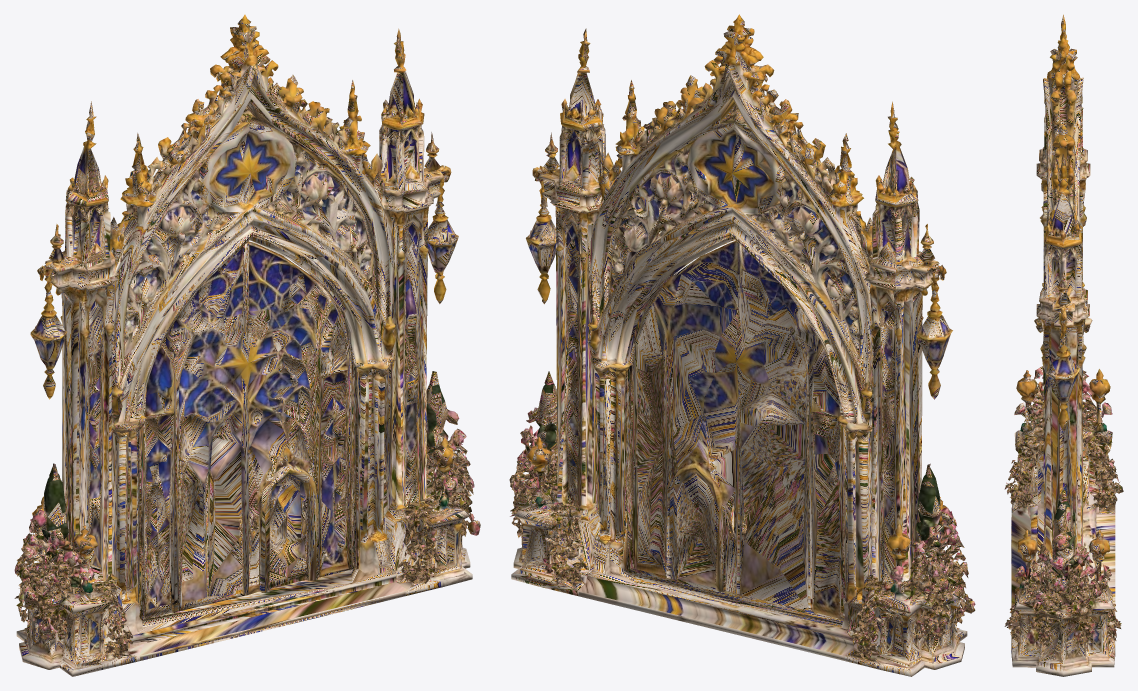
File: Royal_Portal_Gate.glb
3 views of the same model, side by side, from view 1: azimuth 30°, elevation 25°; view 2: azimuth 150°, elevation 25°; view 3: azimuth 270°, elevation 25° (orthographic). The views are drawn at different scales.
Visible parts, largest first — view 1: Royal_Portal_Gate; view 2: Royal_Portal_Gate; view 3: Royal_Portal_Gate.
Part boxes in pixels (<box>): Royal_Portal_Gate: <box>14,14,480,676</box>; Royal_Portal_Gate: <box>509,14,975,676</box>; Royal_Portal_Gate: <box>1004,14,1123,676</box>.
Size of the model in its own units: 1.49 by 1.9 by 0.3801.
1 material, 1 textured.
